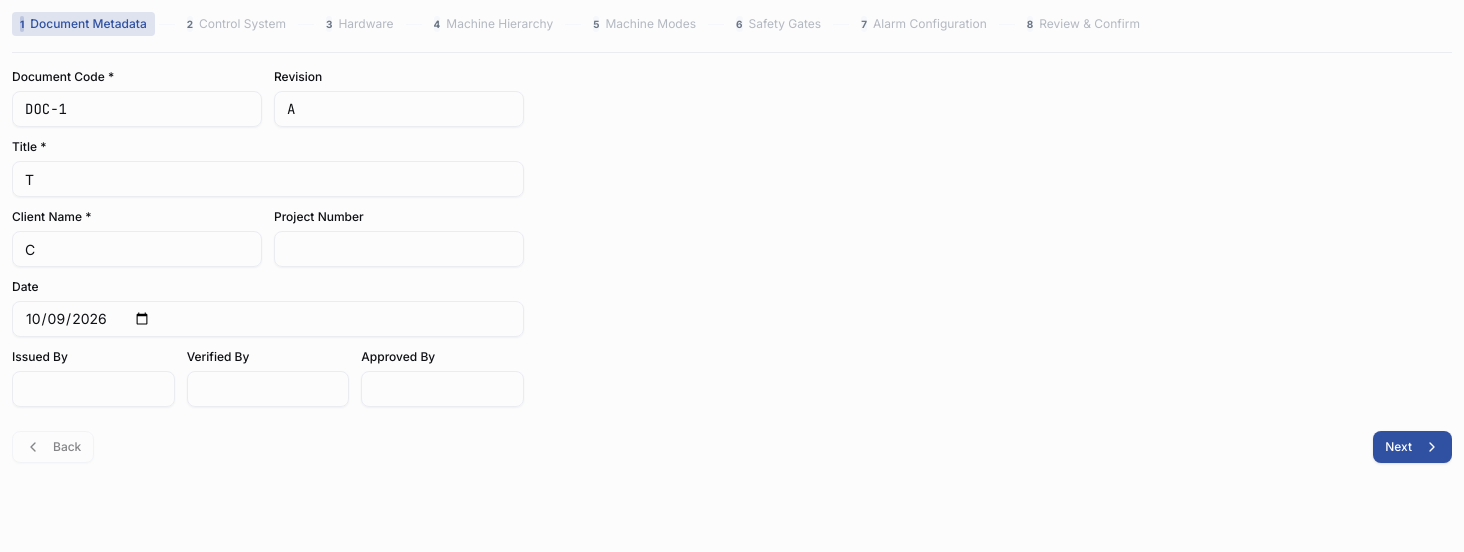
it: SpecSkeletonWizard — IO re-addressing › applies the planned addresses to the hierarchy from the Hardware step
The width and height of the screenshot is (1464, 552).
// Step 1 → 2 → 3 (Hardware).
Step 1. Click the button "Next" → (1413, 447), box [1373,431,1452,463]
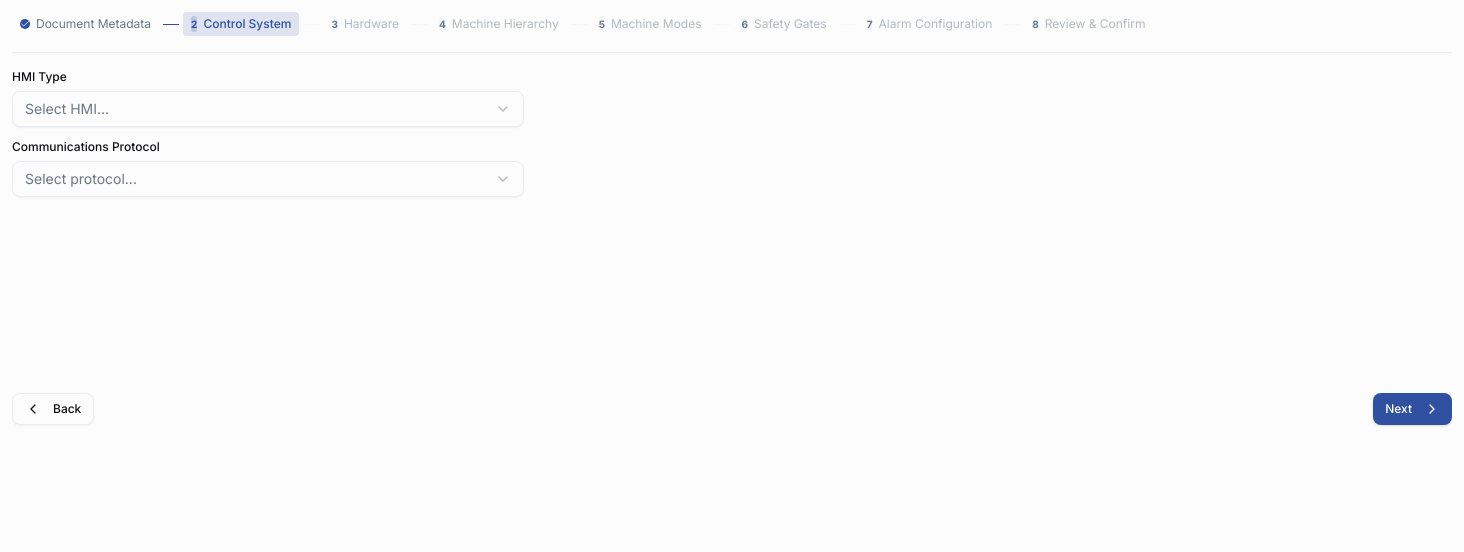
Step 2. Click the button "Next" → (1413, 409), box [1373,393,1452,425]
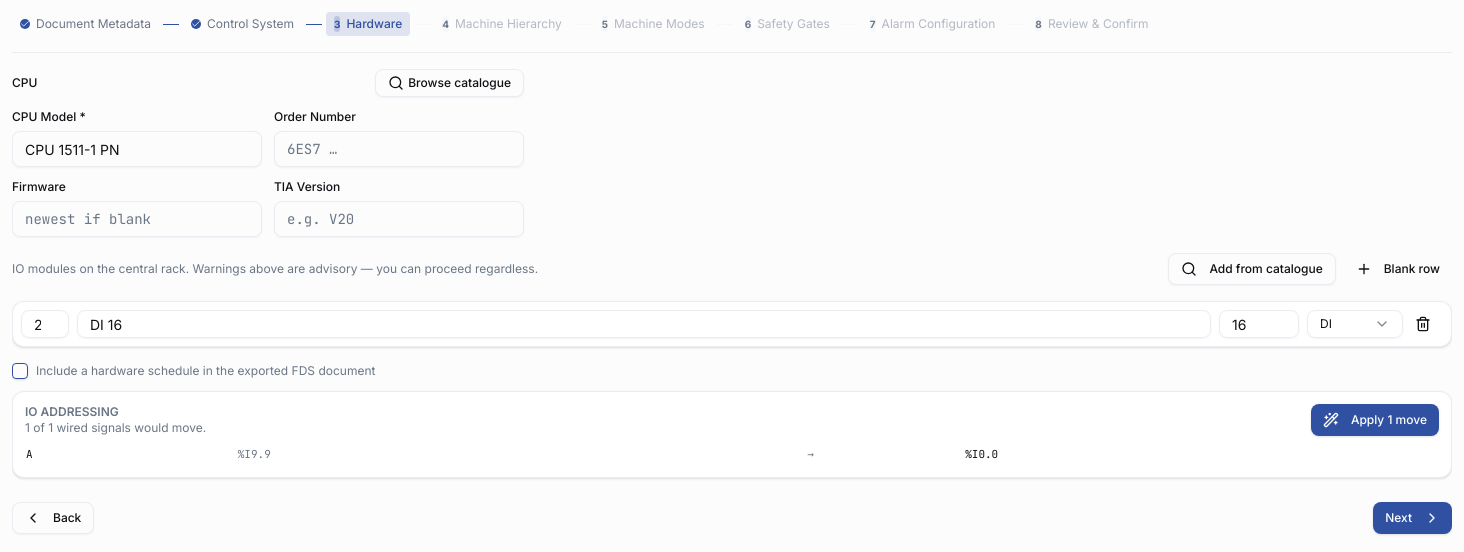
Check: the element with test id "io-addressing-panel" is shown, box [12,391,1452,478]
Check: the text "1 of 1 wired signals would move." is shown, box [25,420,206,436]
Step 3. Click the button "Apply 1 move" → (1375, 420), box [1311,404,1439,436]
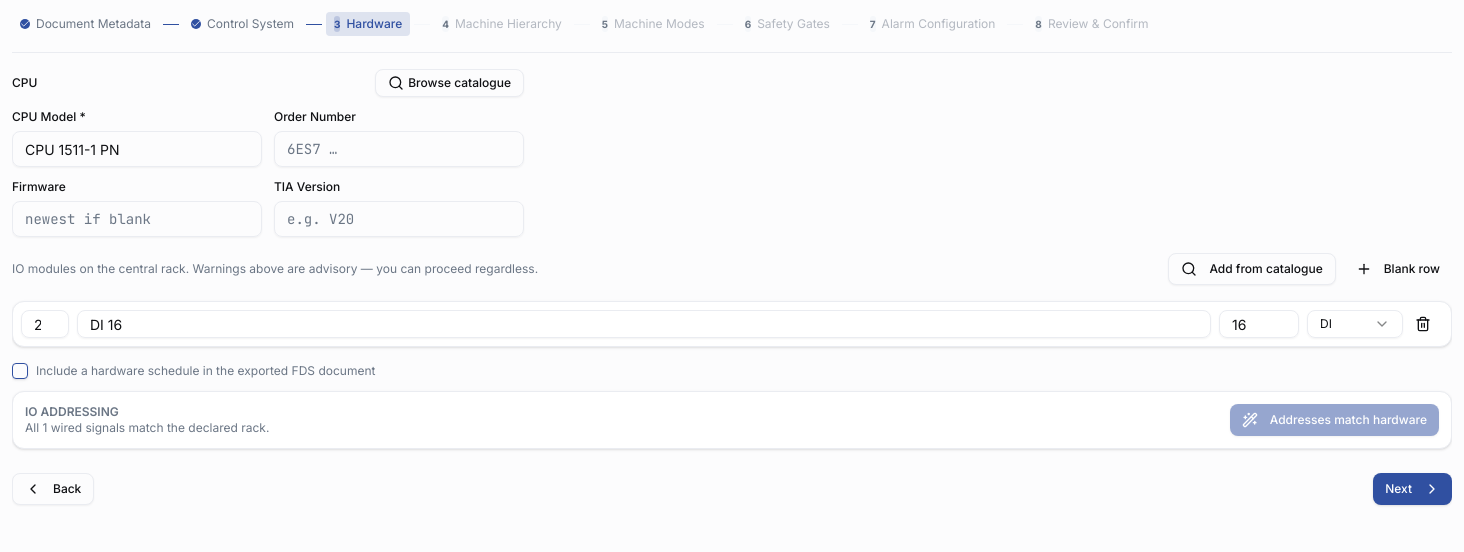
Check: the button "Addresses match hardware" is disabled, box [1230,404,1439,436]
